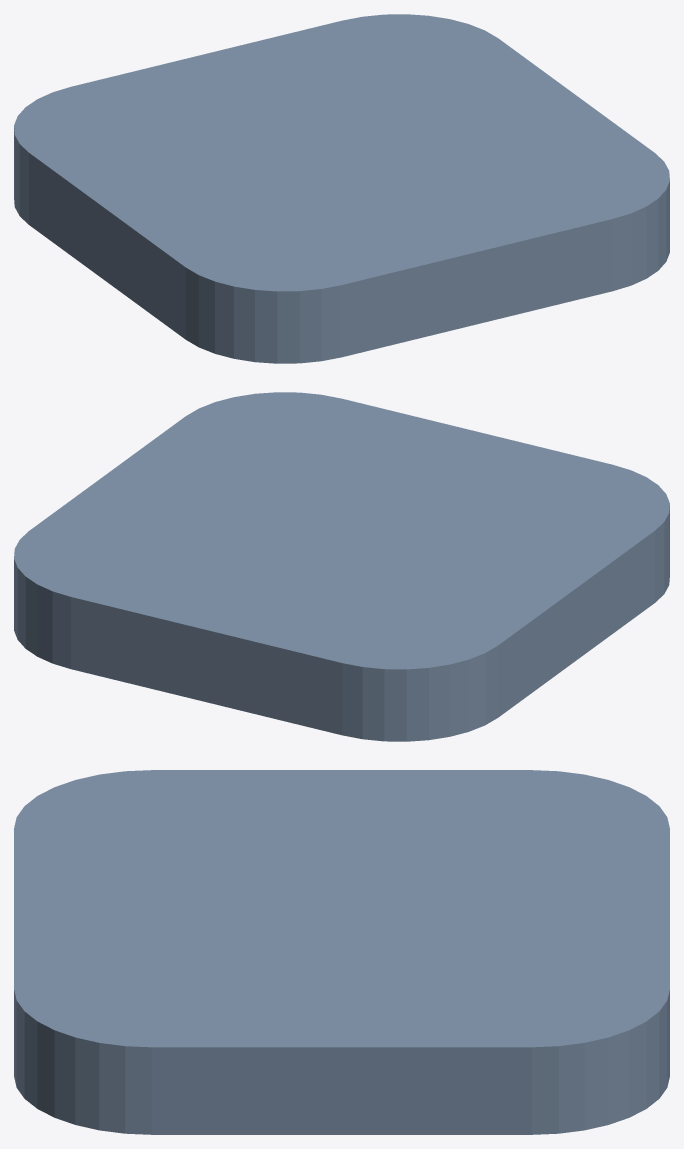
Rendered from ucantabla.fbx.
The picture shows the model from 3 angles, top to bottom: view 1: azimuth 30°, elevation 25°; view 2: azimuth 150°, elevation 25°; view 3: azimuth 270°, elevation 25°; orthographic projection. The views are drawn at different scales.
Parts seen in each view (by area): view 1: uçan tabla; view 2: uçan tabla; view 3: uçan tabla.
Part boxes in pixels (x1,y1,x2,y2): uçan tabla: [14, 14, 669, 363]; uçan tabla: [14, 392, 669, 741]; uçan tabla: [14, 770, 669, 1134].
Size of the model in its own units: 980 by 144 by 980.
